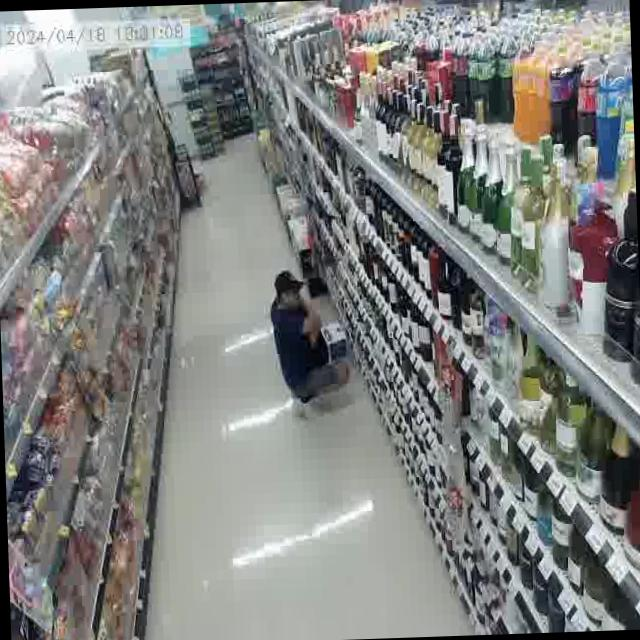shoplifting: (258, 259, 364, 432)
